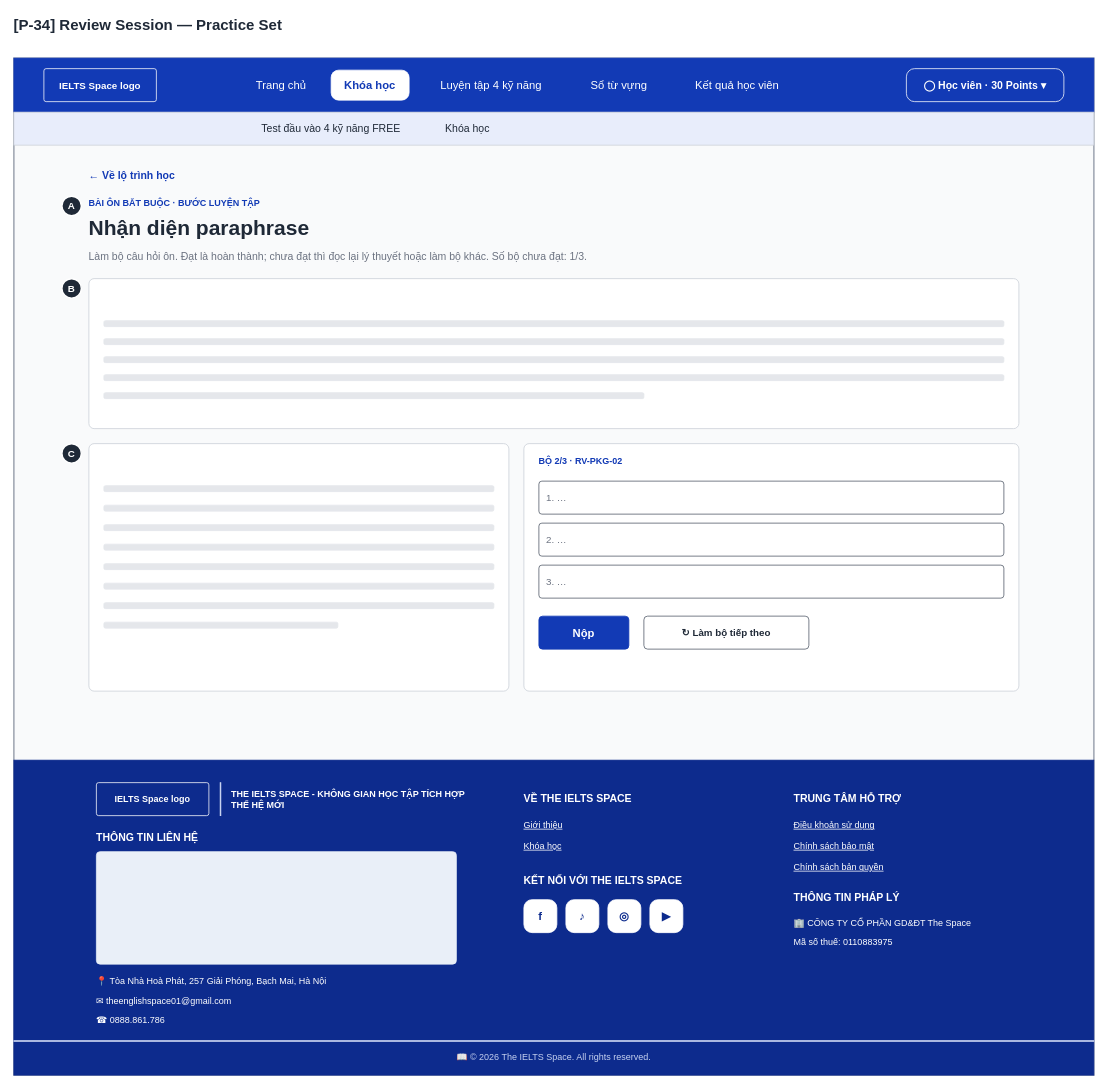
The diagram is 1107 pixels wide and 1088 high, and some of its shapes have lost their labels. Here are the shapes that lost their labels. From the top down, the centre of each, then its label:
At point (553, 353): "📘 Lý thuyết cần nhớ".
At point (298, 567): "Review audio / Passage".
At point (276, 907): "📍 The IELTS Space Mở trong Maps ↗".
